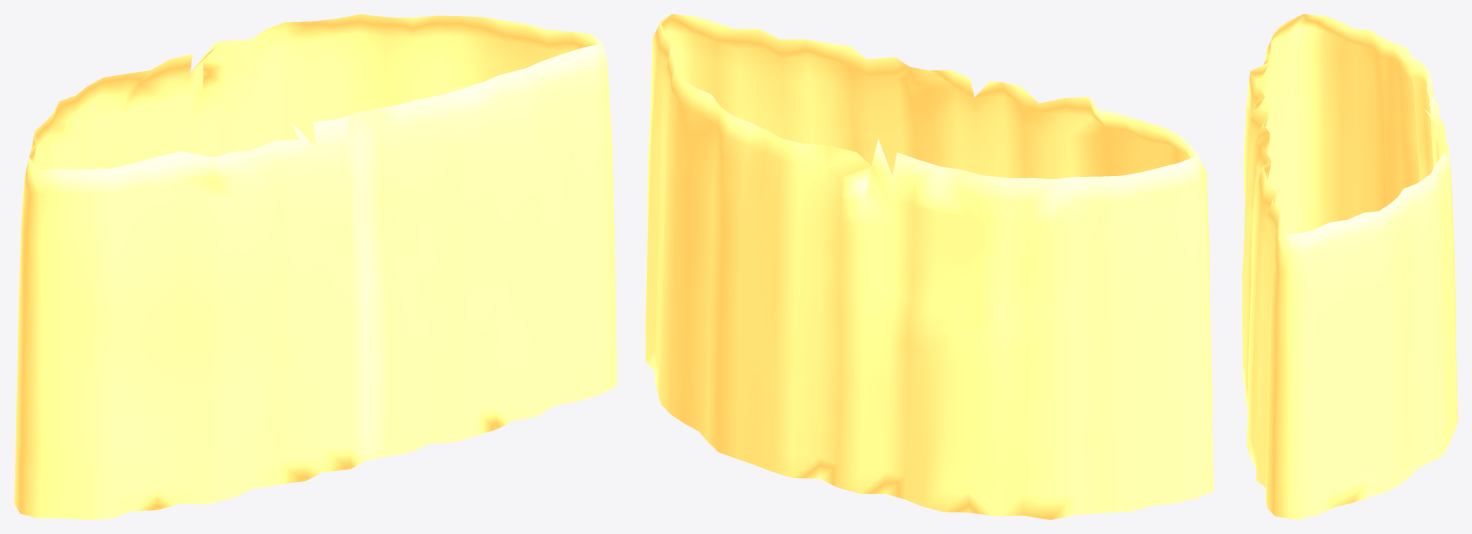
File: townhall_hover.glb
3 renders of one model, left to right at view 1: azimuth 30°, elevation 25°; view 2: azimuth 150°, elevation 25°; view 3: azimuth 270°, elevation 25°, orthographic. The views are drawn at different scales.
Parts seen in each view (by area): view 1: townhall_hover; view 2: townhall_hover; view 3: townhall_hover.
Part boxes in pixels (box(x1,y1,x2,y2)): townhall_hover: box(14, 14, 616, 519); townhall_hover: box(645, 14, 1213, 519); townhall_hover: box(1242, 14, 1457, 519).
Bounding box in the file's own units: 3.21 × 1.82 × 1.25.
